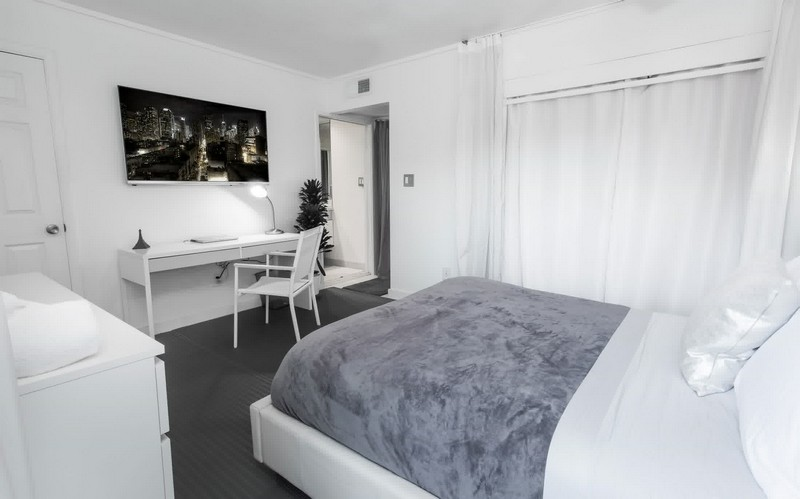bed: (270, 280, 800, 493)
chair: (237, 230, 322, 342)
door: (317, 102, 392, 293)
lamp: (248, 183, 283, 237)
table: (110, 231, 303, 326)
